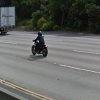Motorcycle: (22, 29, 53, 60)
